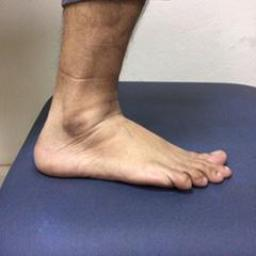Lateral View -Right Foot-: (28, 68, 237, 209)
